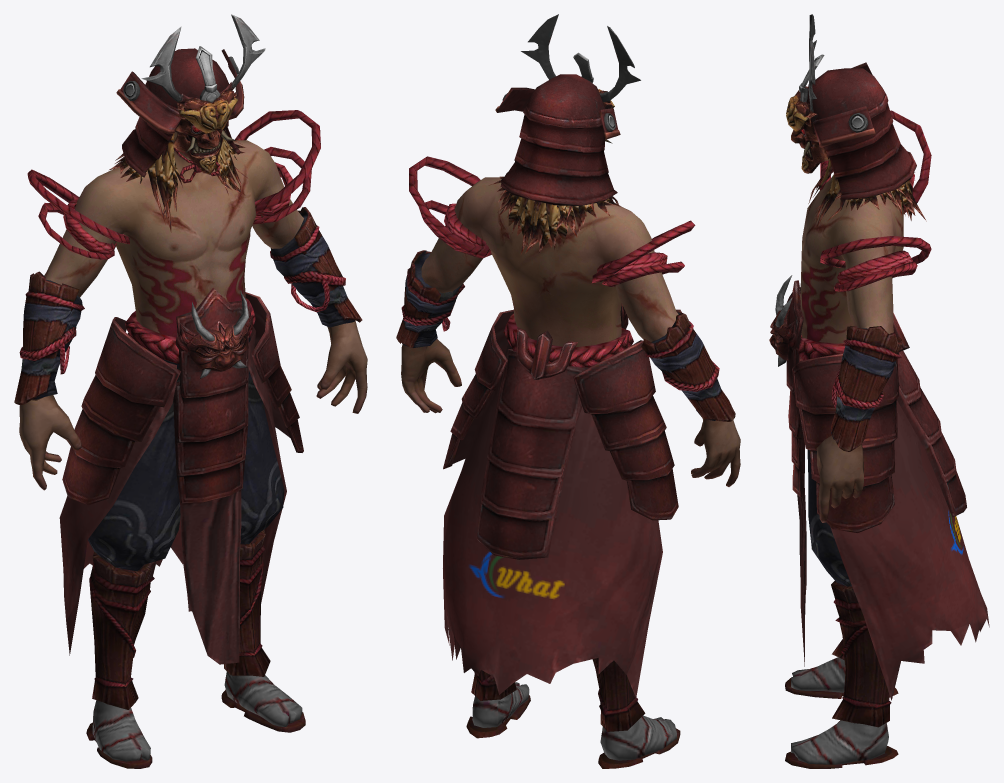
The model's file is samurai.glb.
3 renders of one model, left to right at view 1: azimuth 30°, elevation 25°; view 2: azimuth 150°, elevation 25°; view 3: azimuth 270°, elevation 25°, orthographic. The views are drawn at different scales.
Parts seen in each view (by area): view 1: Cloth_BOSS_Samurai_cloth.001_3, Body_BOSS_Samurai_cloth.002_4, Head_BOSS_Samurai_cloth_2; view 2: Cloth_BOSS_Samurai_cloth.001_3, Body_BOSS_Samurai_cloth.002_4, Head_BOSS_Samurai_cloth_2; view 3: Cloth_BOSS_Samurai_cloth.001_3, Head_BOSS_Samurai_cloth_2, Body_BOSS_Samurai_cloth.002_4.
Part boxes in pixels (x1,y1,x2,y2): Cloth_BOSS_Samurai_cloth.001_3: (14,110,362,768); Body_BOSS_Samurai_cloth.002_4: (19,132,367,490); Head_BOSS_Samurai_cloth_2: (109,14,265,232); Cloth_BOSS_Samurai_cloth.001_3: (396,156,735,768); Body_BOSS_Samurai_cloth.002_4: (401,177,740,486); Head_BOSS_Samurai_cloth_2: (489,14,640,254); Cloth_BOSS_Samurai_cloth.001_3: (769,110,989,768); Head_BOSS_Samurai_cloth_2: (786,14,926,228); Body_BOSS_Samurai_cloth.002_4: (800,158,903,522).
Size of the model in its own units: 1.31 by 2.61 by 0.748.
3 materials, 3 textured.
